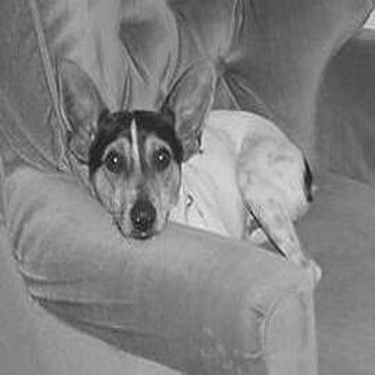dog: (33, 44, 336, 277)
